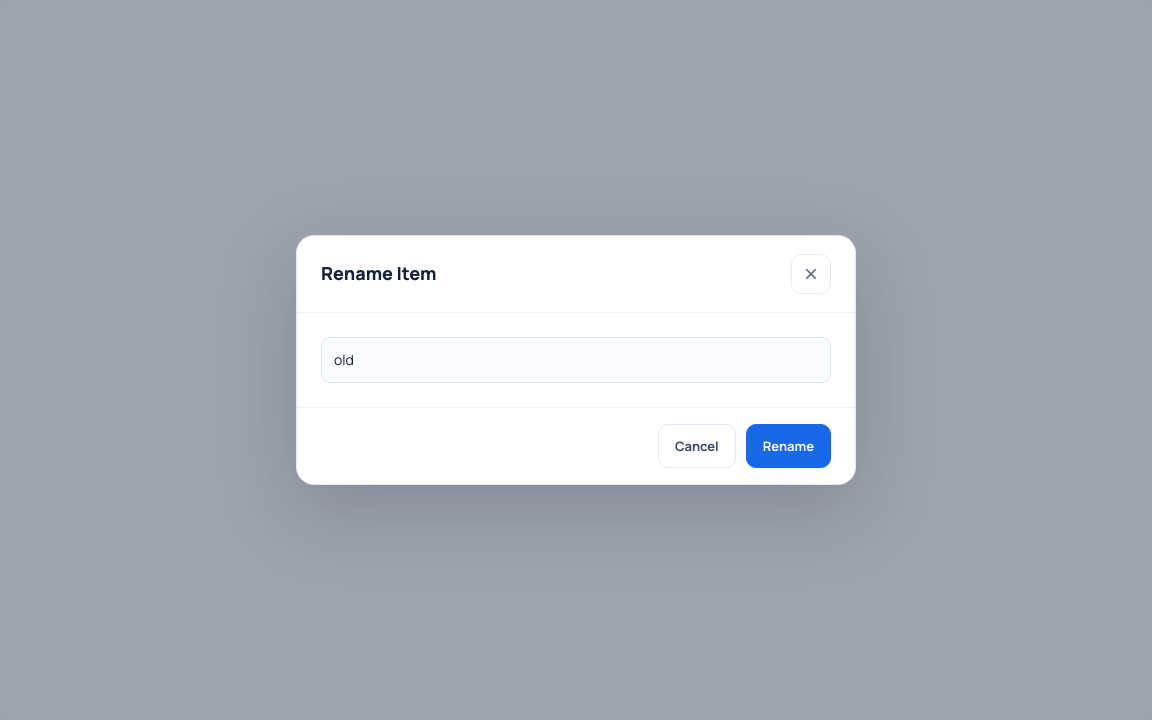
it: rename errors keep the entered name and allow a retry
The width and height of the screenshot is (1152, 720).
Replace the text in the field with placeholder "New name" with "new" at (576, 360), box [321,337,831,383]
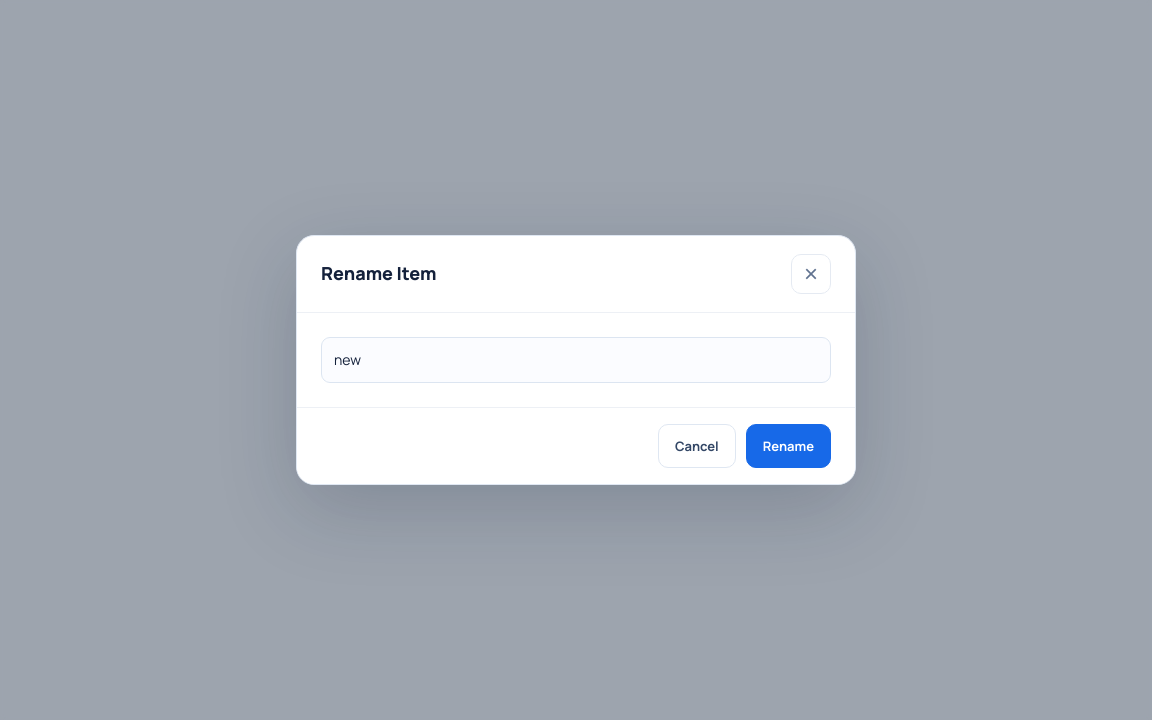
Click the button "Rename" at (788, 446), box [746,424,831,468]
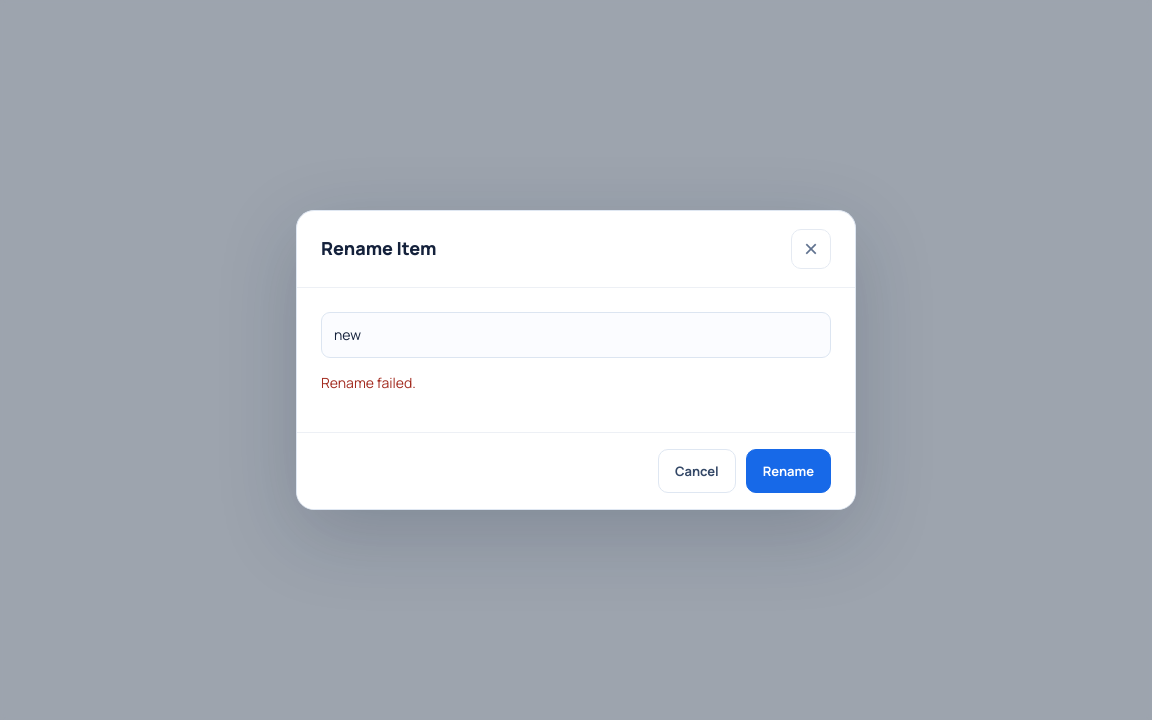
Result: the message reads "Rename failed." at [321,373,416,392]
